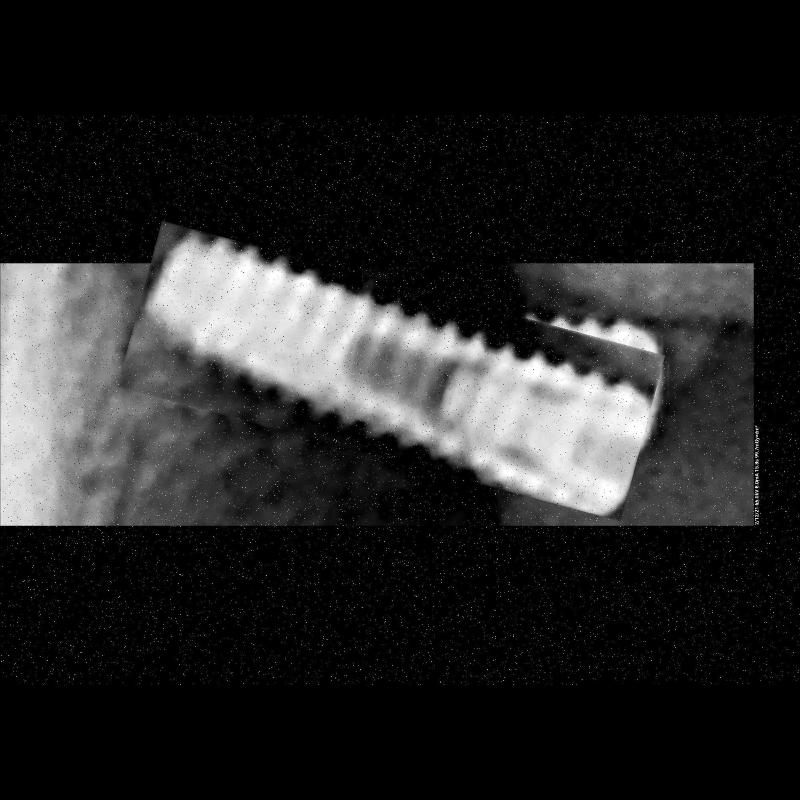osstem: (124, 253, 658, 489)
